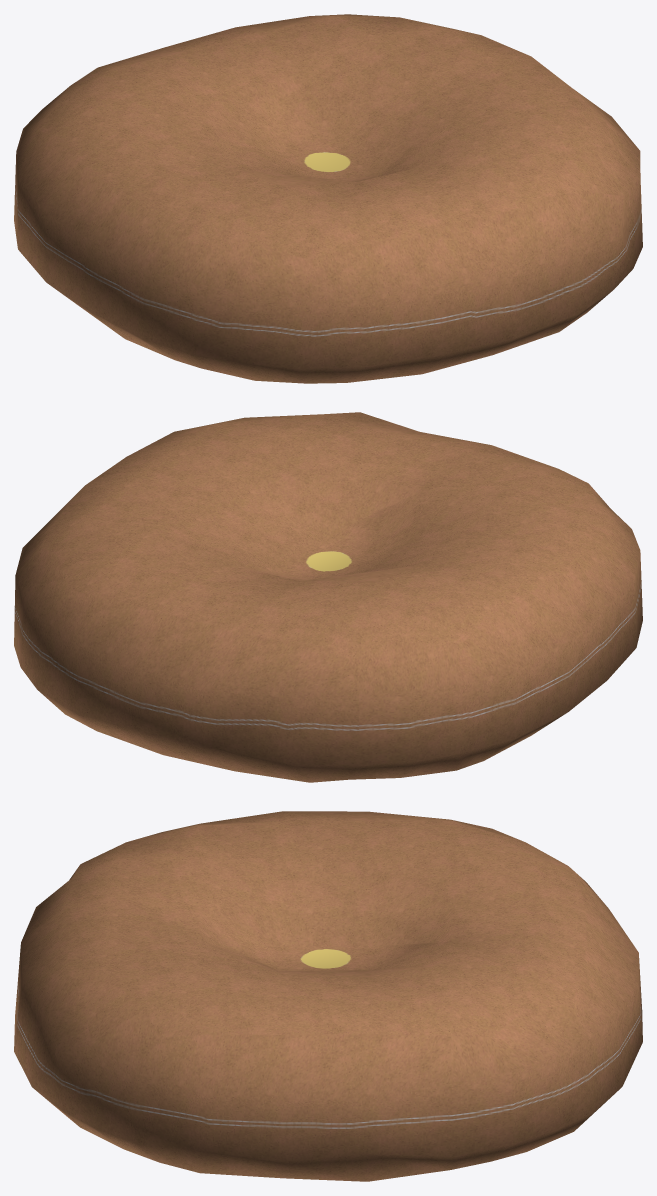
The model's file is circular_pillow_lopoly.gltf.
The picture shows the model from 3 angles, top to bottom: view 1: azimuth 30°, elevation 25°; view 2: azimuth 150°, elevation 25°; view 3: azimuth 270°, elevation 25°; orthographic projection. The views are drawn at different scales.
Parts seen in each view (by area): view 1: Circular Leather Pillow Lo Poly; view 2: Circular Leather Pillow Lo Poly; view 3: Circular Leather Pillow Lo Poly.
Boxes of the visible parts, left/top/right/bottom form: Circular Leather Pillow Lo Poly: left=14, top=14, right=642, bottom=383; Circular Leather Pillow Lo Poly: left=14, top=412, right=642, bottom=782; Circular Leather Pillow Lo Poly: left=14, top=811, right=642, bottom=1181.
Bounding box in the file's own units: 0.3593 × 0.1078 × 0.3649.
1 material, 1 textured.
